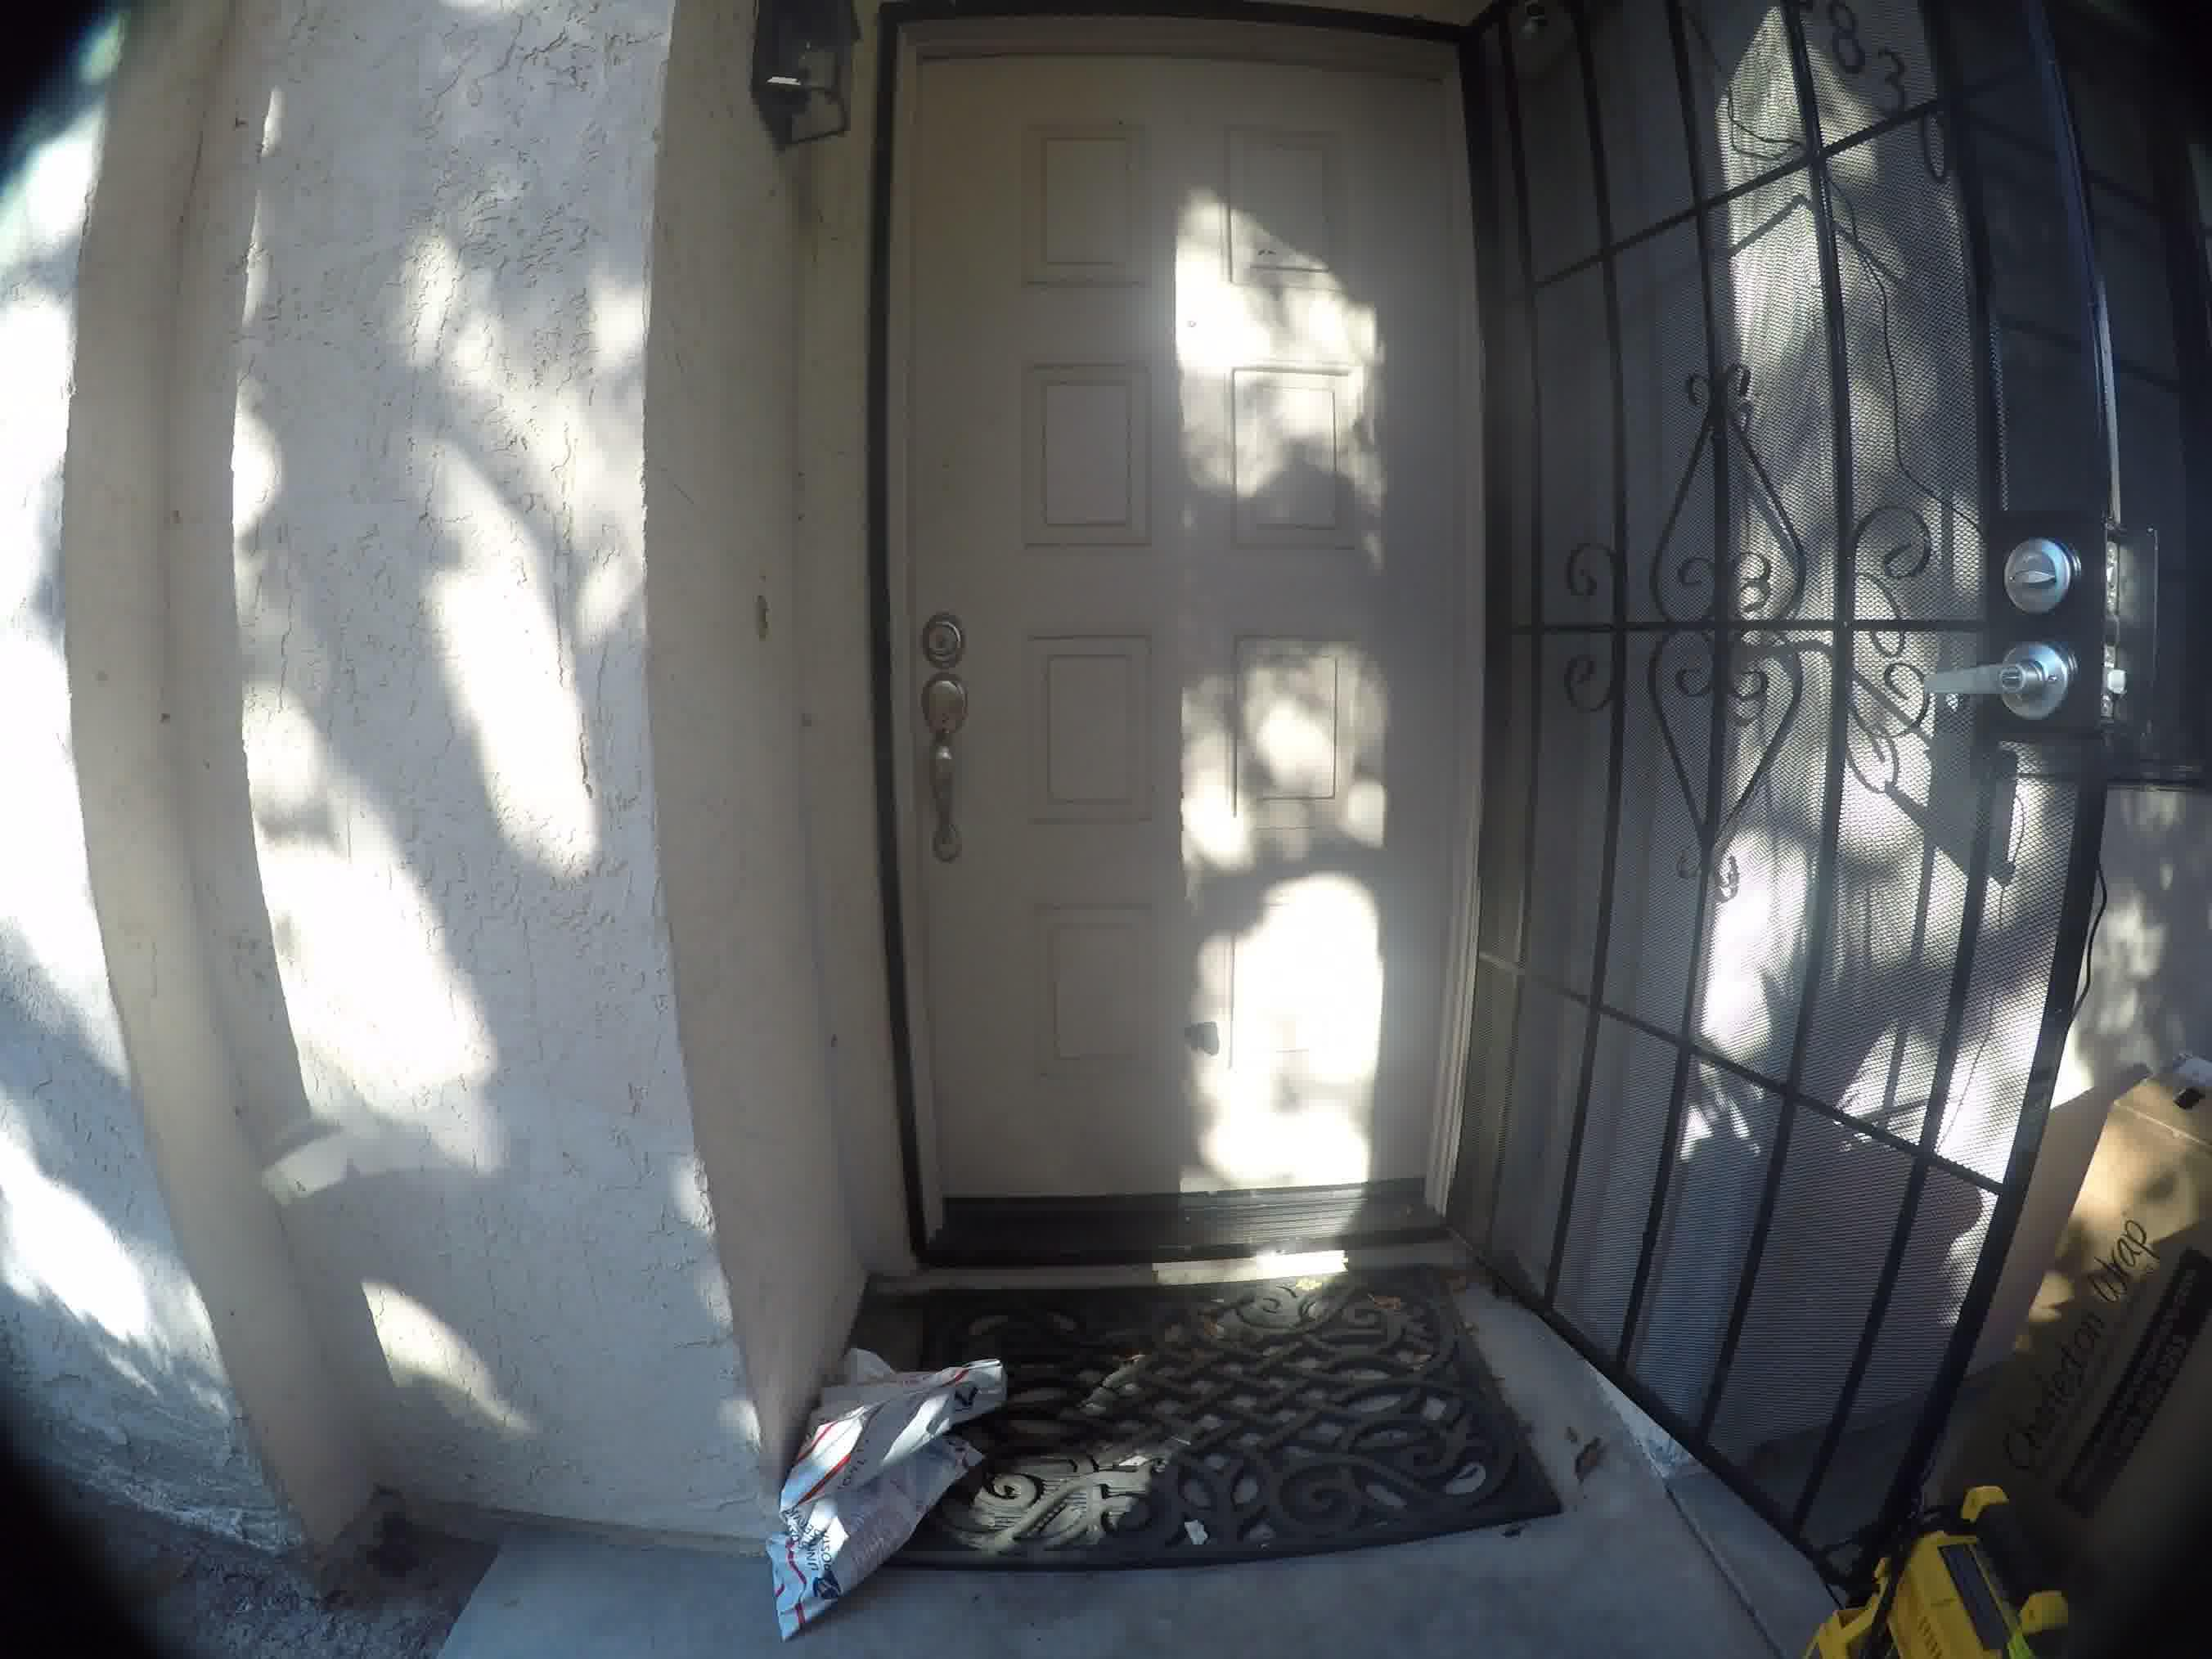plastic_bag: (779, 1328, 1015, 1633)
